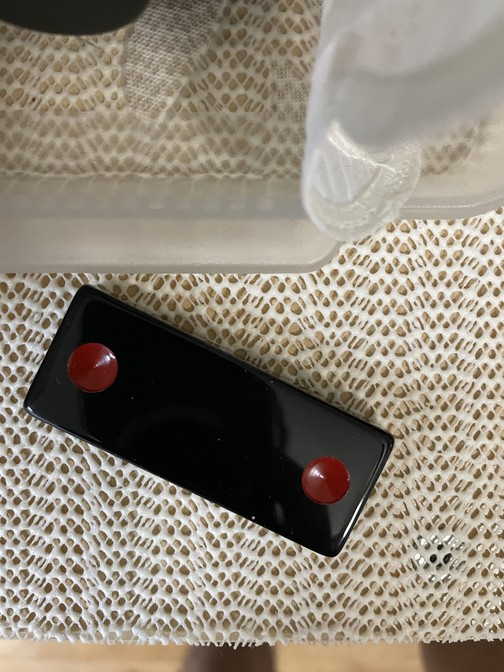earth: (26, 285, 394, 558)
